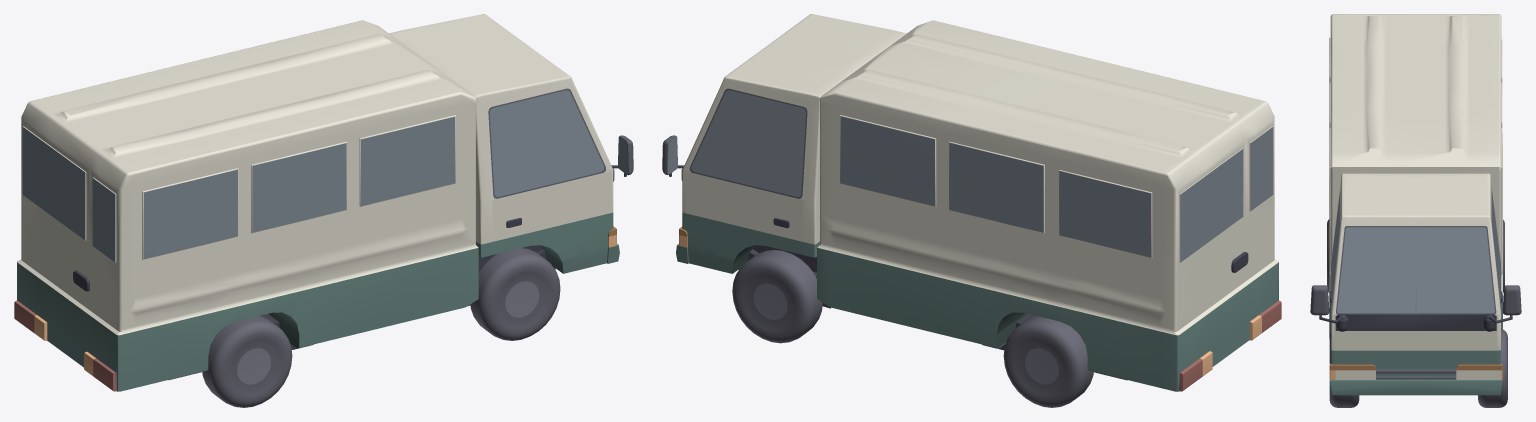
File: elf.glb
3 renders of one model, left to right at view 1: azimuth 30°, elevation 25°; view 2: azimuth 150°, elevation 25°; view 3: azimuth 270°, elevation 25°, orthographic. The views are drawn at different scales.
Parts seen in each view (by area): view 1: polySurface1, polySurface3, pasted__pasted__pasted__pasted__pCylinder1, pCube6; view 2: polySurface1, polySurface3, pasted__pasted__pasted__pasted__pCylinder1, pCube6; view 3: polySurface3, polySurface1, pasted__pasted__pasted__pasted__pCylinder1, pCube6.
Part boxes in pixels (left/top/right/bottom): polySurface1: left=14, top=20, right=478, bottom=391; polySurface3: left=389, top=14, right=619, bottom=273; pasted__pasted__pasted__pasted__pCylinder1: left=202, top=248, right=560, bottom=407; pCube6: left=611, top=135, right=633, bottom=181; polySurface1: left=817, top=20, right=1281, bottom=391; polySurface3: left=676, top=14, right=906, bottom=273; pasted__pasted__pasted__pasted__pCylinder1: left=732, top=249, right=1093, bottom=407; pCube6: left=662, top=135, right=684, bottom=180; polySurface3: left=1329, top=173, right=1502, bottom=395; polySurface1: left=1329, top=14, right=1502, bottom=338; pasted__pasted__pasted__pasted__pCylinder1: left=1327, top=219, right=1507, bottom=407; pCube6: left=1310, top=285, right=1521, bottom=331.
Bounding box in the file's own units: 0.0387 × 0.0192 × 0.016.
